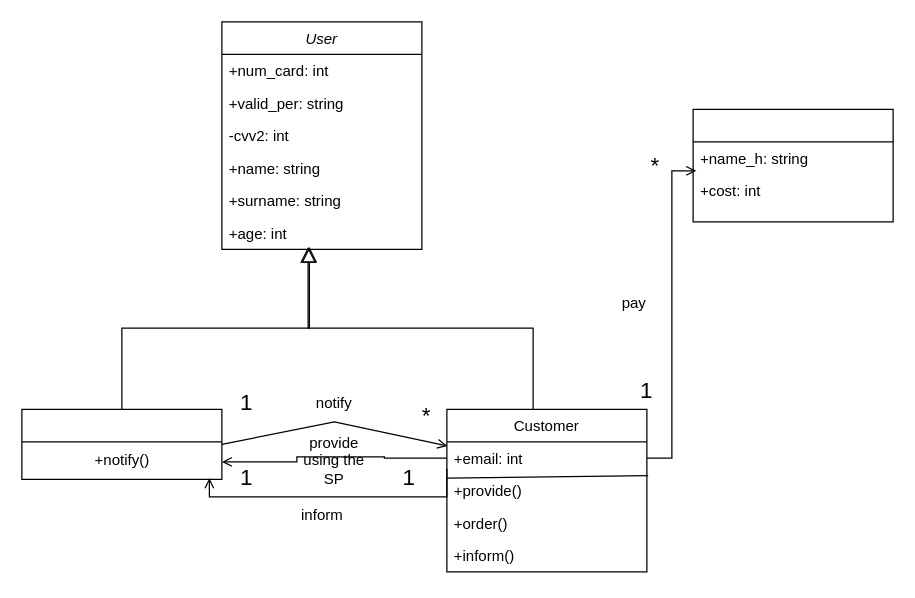
Some shapes in this 915 by 598 pixel diagram are drawn without their labels. The box of each missing label's shape, as (x1, y1, x2, y2) in pixels:
Humidifier: (692, 108, 893, 222)
Operator: (21, 408, 222, 479)
